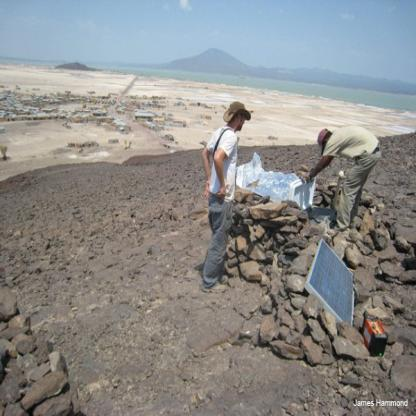person: (201, 92, 247, 303), (308, 112, 372, 249)
